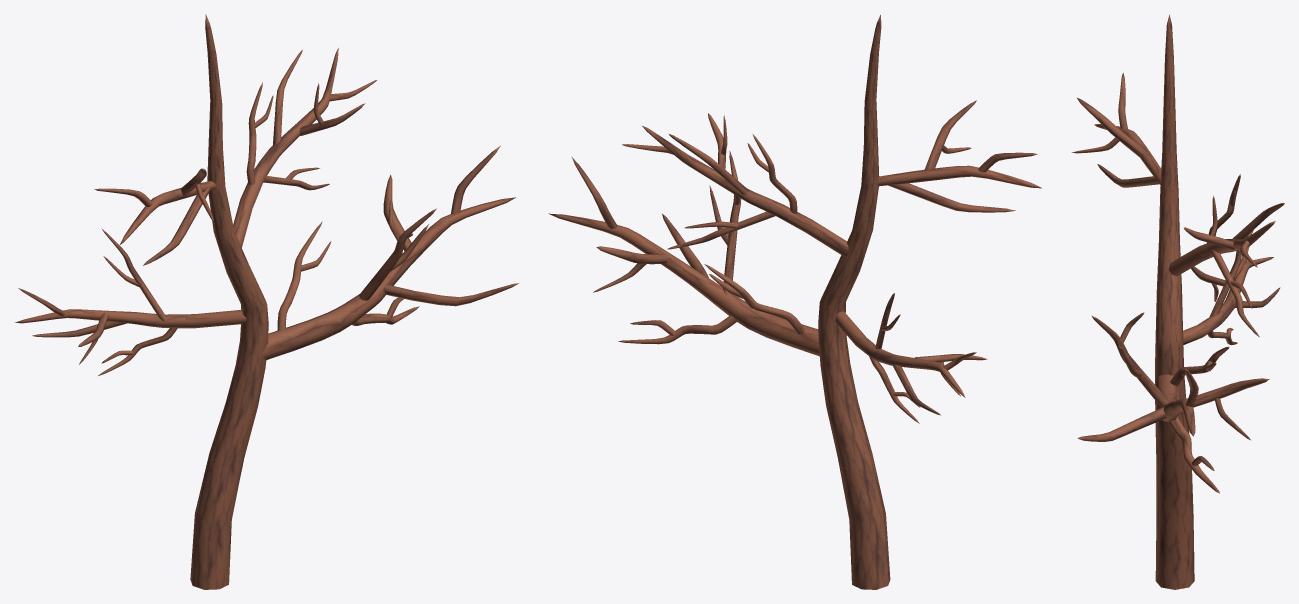
Rendered from DeadTree_3.glb.
3 views of the same model, side by side, from view 1: azimuth 30°, elevation 25°; view 2: azimuth 150°, elevation 25°; view 3: azimuth 270°, elevation 25° (orthographic).
Size of the model in its own units: 4.22 by 4.96 by 1.7.
1 material, 1 textured.
